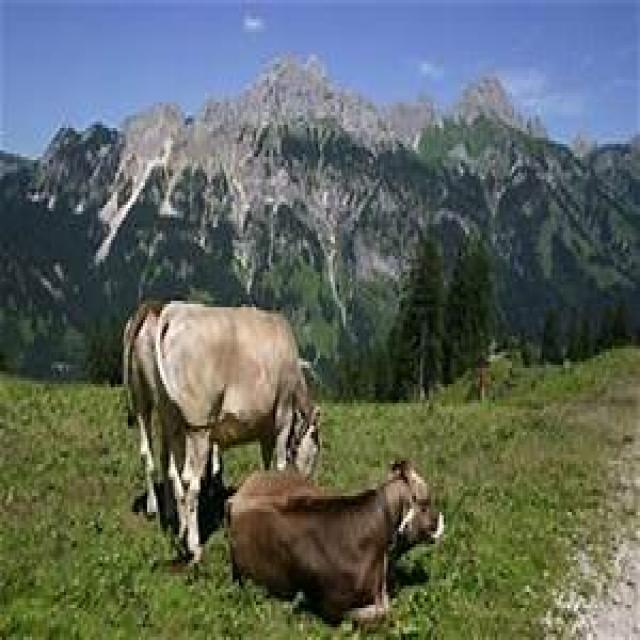cow: (122, 301, 324, 570), (224, 461, 446, 630)
